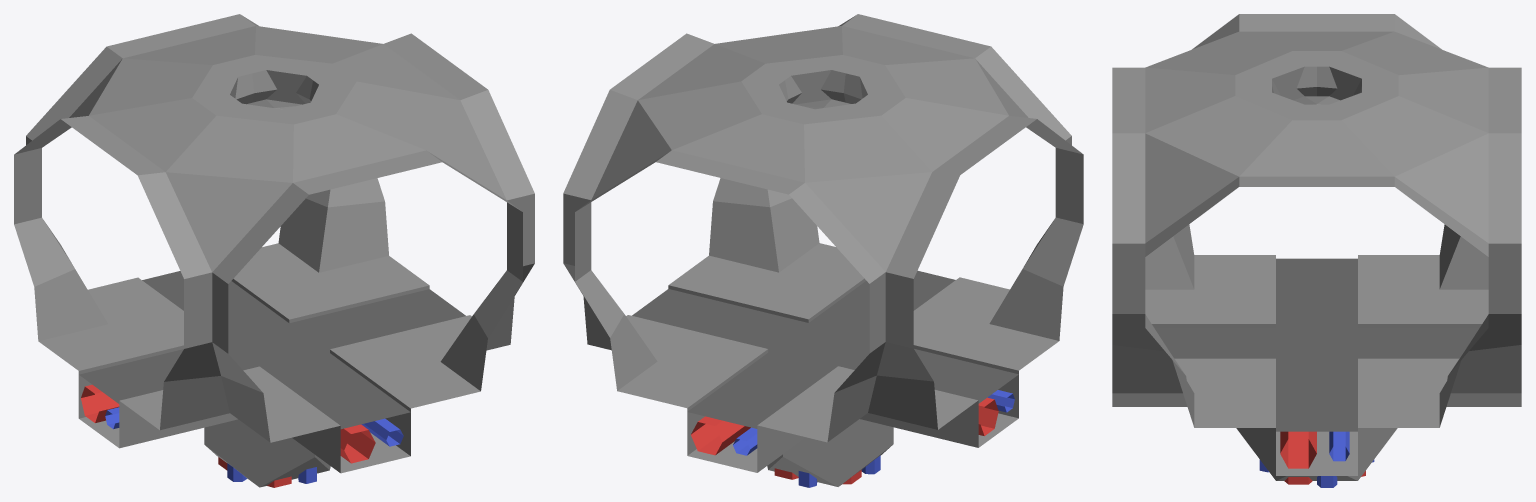
File: Interior+.fbx
3 views of the same model, side by side, from view 1: azimuth 30°, elevation 25°; view 2: azimuth 150°, elevation 25°; view 3: azimuth 270°, elevation 25° (orthographic).
Parts seen in each view (by area): view 1: Plane.008; view 2: Plane.008; view 3: Plane.008.
Part boxes in pixels (x1,y1,x2,y2): Plane.008: (14,14,534,487); Plane.008: (563,14,1083,487); Plane.008: (1112,14,1521,487).
Size of the model in its own units: 1000 by 1020 by 1000.
